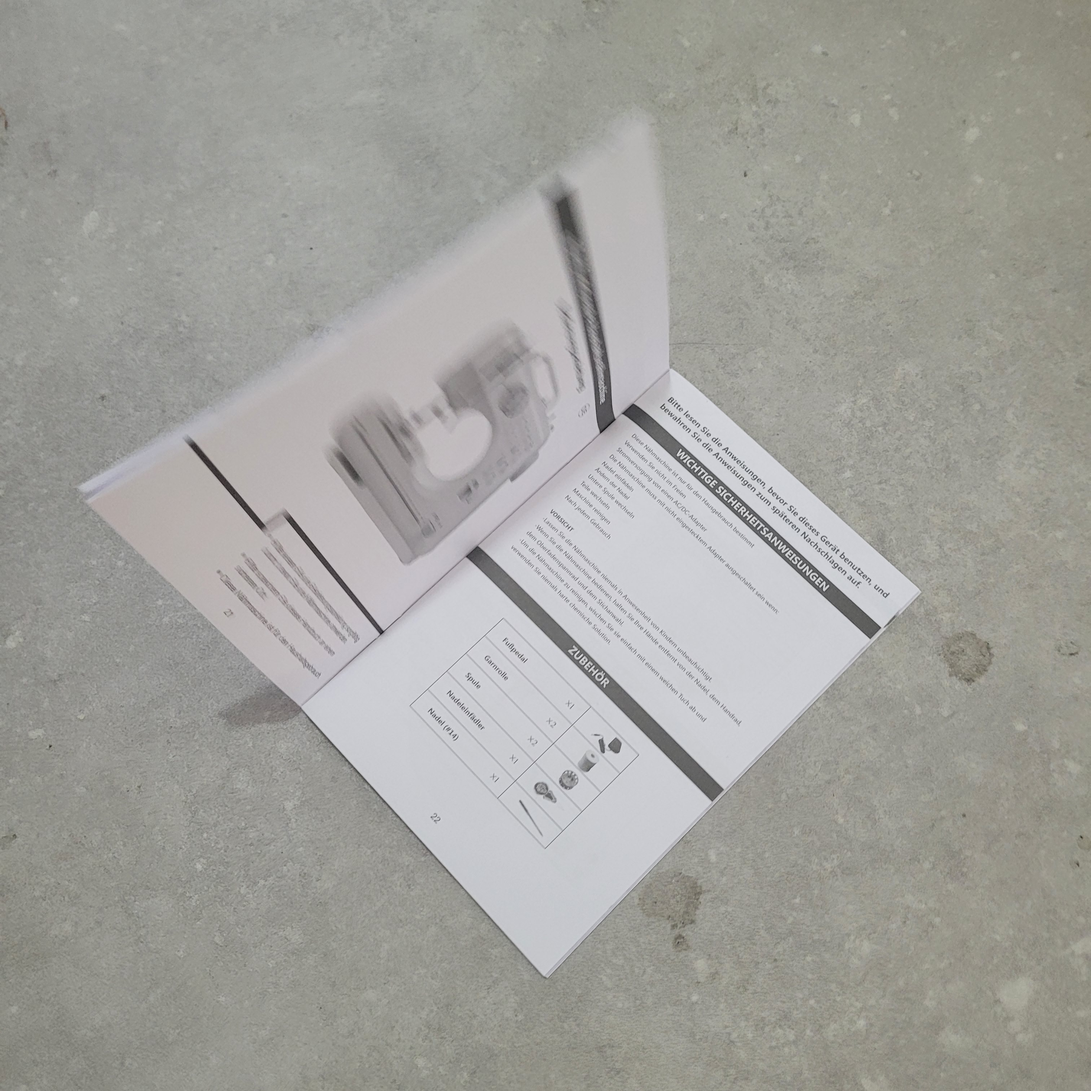paper: (72, 99, 934, 990)
